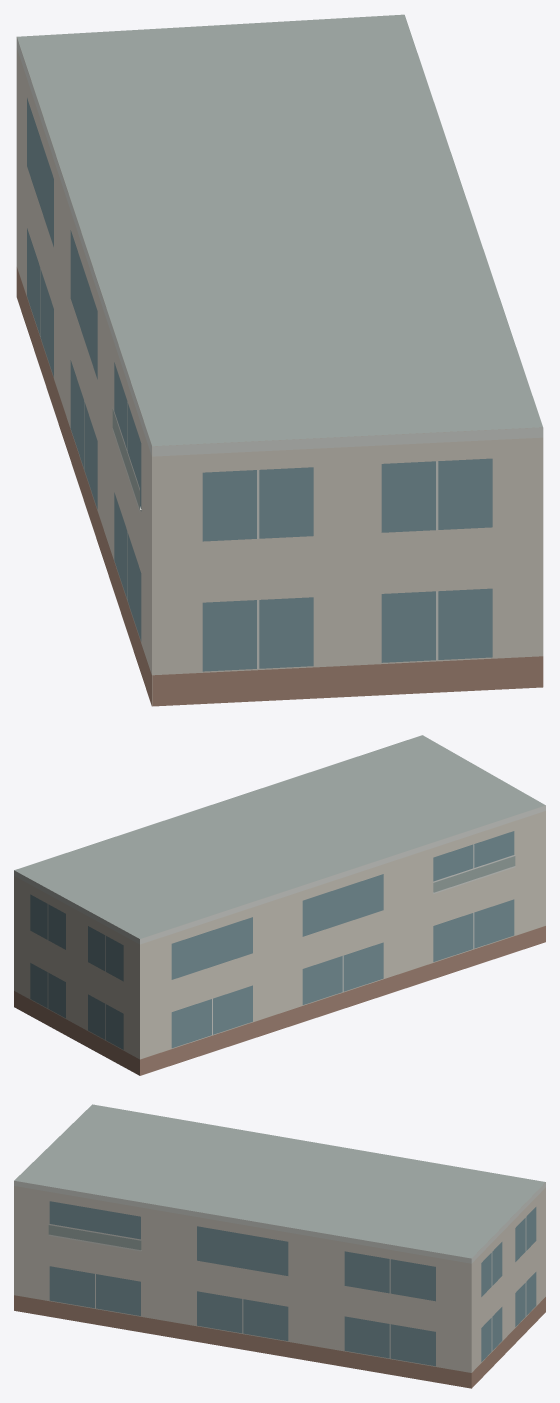
File: survey-upis-32566894.glb
3 views of the same model, one above another, from view 1: azimuth 30°, elevation 25°; view 2: azimuth 150°, elevation 25°; view 3: azimuth 270°, elevation 25° (orthographic). The views are drawn at different scales.
Parts seen in each view (by area): view 1: survey-upis-32566894.tmp; view 2: survey-upis-32566894.tmp; view 3: survey-upis-32566894.tmp.
Boxes of the visible parts, x1=… form: survey-upis-32566894.tmp: x1=16, y1=14, x2=543, y2=706; survey-upis-32566894.tmp: x1=14, y1=735, x2=545, y2=1075; survey-upis-32566894.tmp: x1=14, y1=1104, x2=545, y2=1388.
Bounding box in the file's own units: 15.52 × 6.1 × 22.62.
